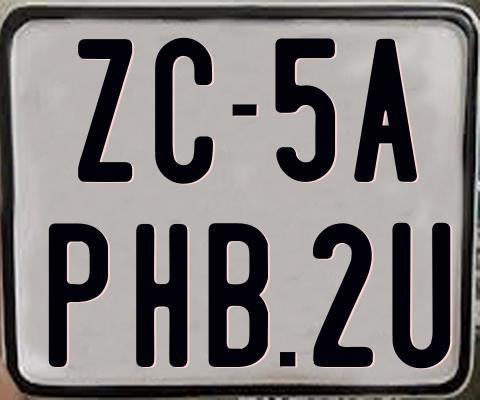2: (311, 220, 375, 370)
5: (272, 35, 336, 182)
A: (354, 36, 419, 181)
B: (205, 223, 267, 368)
C: (153, 35, 212, 187)
H: (135, 221, 189, 364)
P: (49, 223, 108, 373)
U: (390, 220, 448, 365)
Z: (78, 37, 137, 184)
